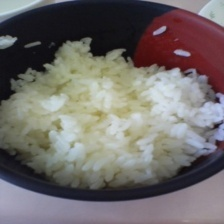rice: (0, 26, 224, 198)
